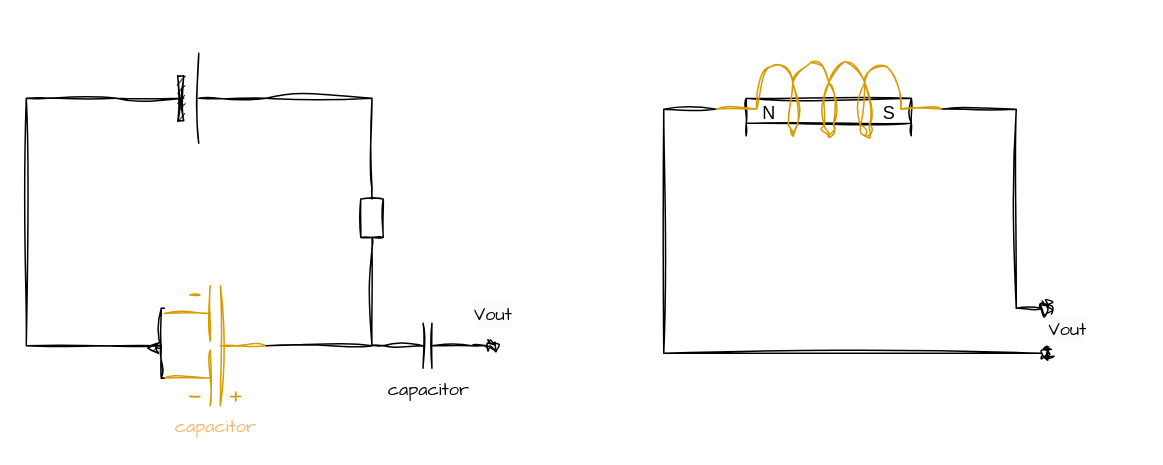
The diagram is 1163 pixels wide and 465 high, and some of its shapes have lost their labels. The shapes that lost their labels are listed below. From the top down, each one's centre as x and y in pixels, then its label:
[190,97]: voltage source
[371,217]: resistor
